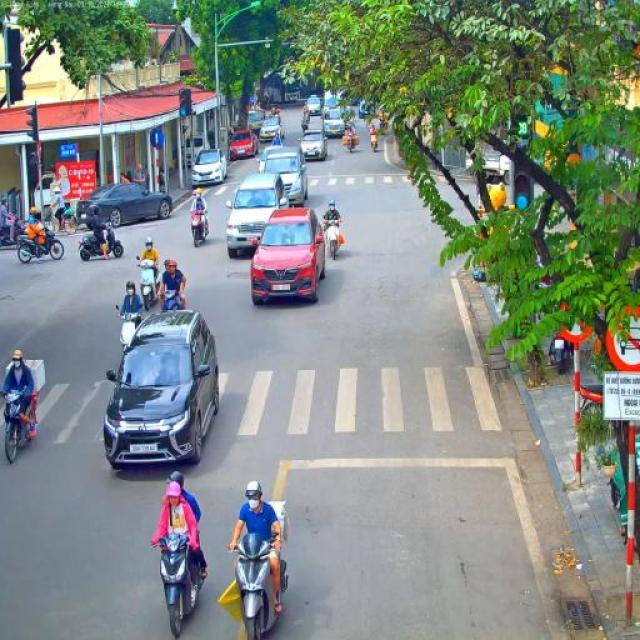car: (101, 308, 220, 473), (249, 206, 326, 306), (225, 171, 290, 260), (75, 180, 174, 229), (263, 149, 309, 209), (192, 148, 228, 187), (256, 145, 296, 175), (296, 129, 329, 161), (230, 130, 258, 160), (322, 107, 347, 137), (260, 116, 285, 144), (306, 98, 322, 118)
motorcycle: (228, 530, 291, 640), (150, 530, 204, 640), (0, 388, 38, 464), (16, 221, 65, 264), (77, 220, 124, 262), (571, 378, 604, 434), (116, 306, 142, 356), (137, 255, 159, 311), (0, 212, 28, 248), (550, 330, 570, 376), (322, 219, 342, 261), (158, 285, 183, 313), (190, 210, 208, 248), (345, 130, 356, 154), (367, 132, 379, 152), (300, 117, 310, 133)
truck: (440, 138, 540, 196), (264, 80, 301, 106), (243, 110, 263, 141), (322, 88, 342, 110)
